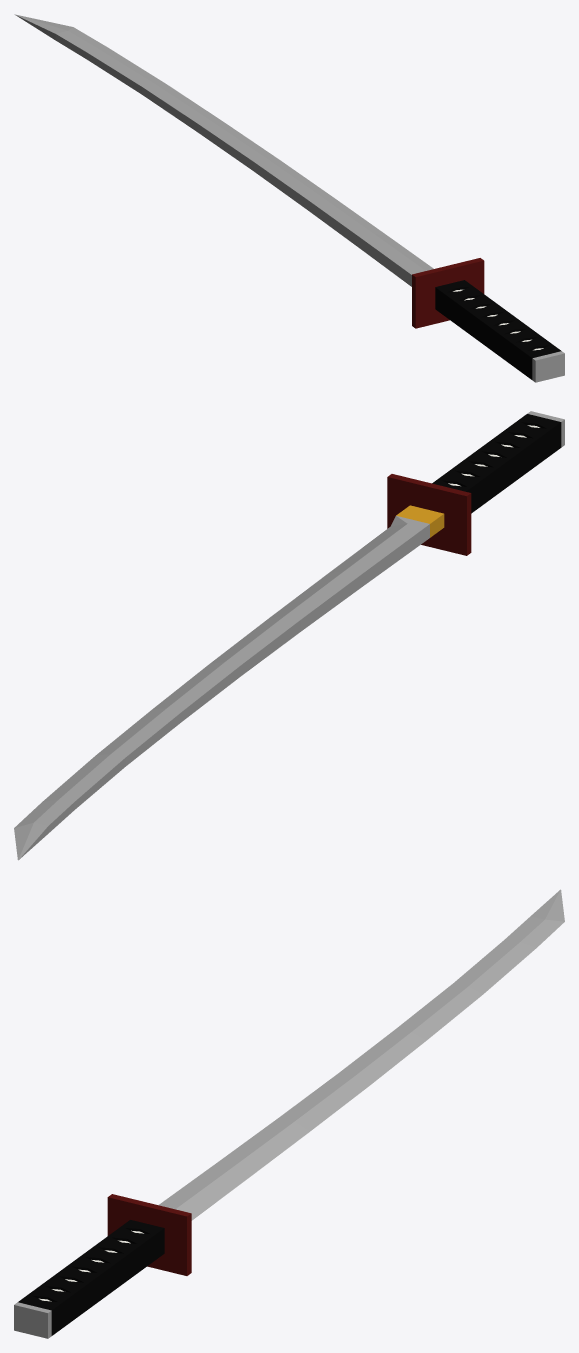
Rendered from Katana - Textured Low Poly Asian Weapon Pack by Kickin It Studios.fbx.
3 renders of one model, top to bottom at view 1: azimuth 30°, elevation 25°; view 2: azimuth 150°, elevation 25°; view 3: azimuth 330°, elevation 25°, orthographic. The views are drawn at different scales.
Parts seen in each view (by area): view 1: Katana; view 2: Katana; view 3: Katana.
Boxes of the visible parts, left/top/right/bottom form: Katana: left=14, top=14, right=564, bottom=382; Katana: left=14, top=411, right=564, bottom=860; Katana: left=14, top=889, right=564, bottom=1338.
Size of the model in its own units: 59.4 by 39.55 by 691.
